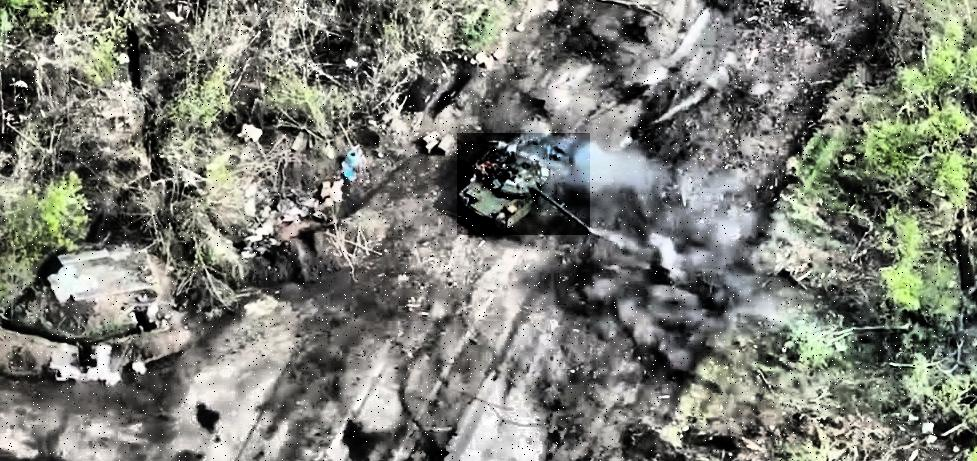military-vehicle: (458, 133, 591, 235)
